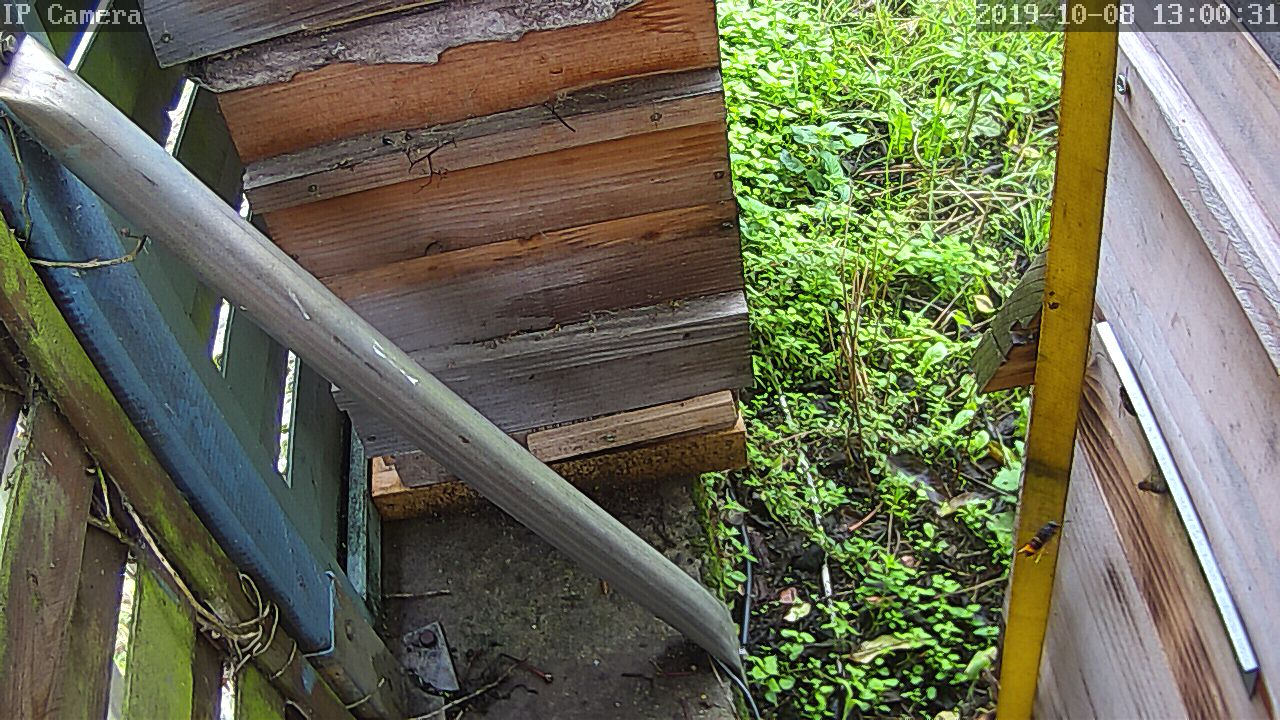bee: (1112, 381, 1141, 427), (1133, 474, 1169, 506)
hornet: (1017, 514, 1064, 560)
